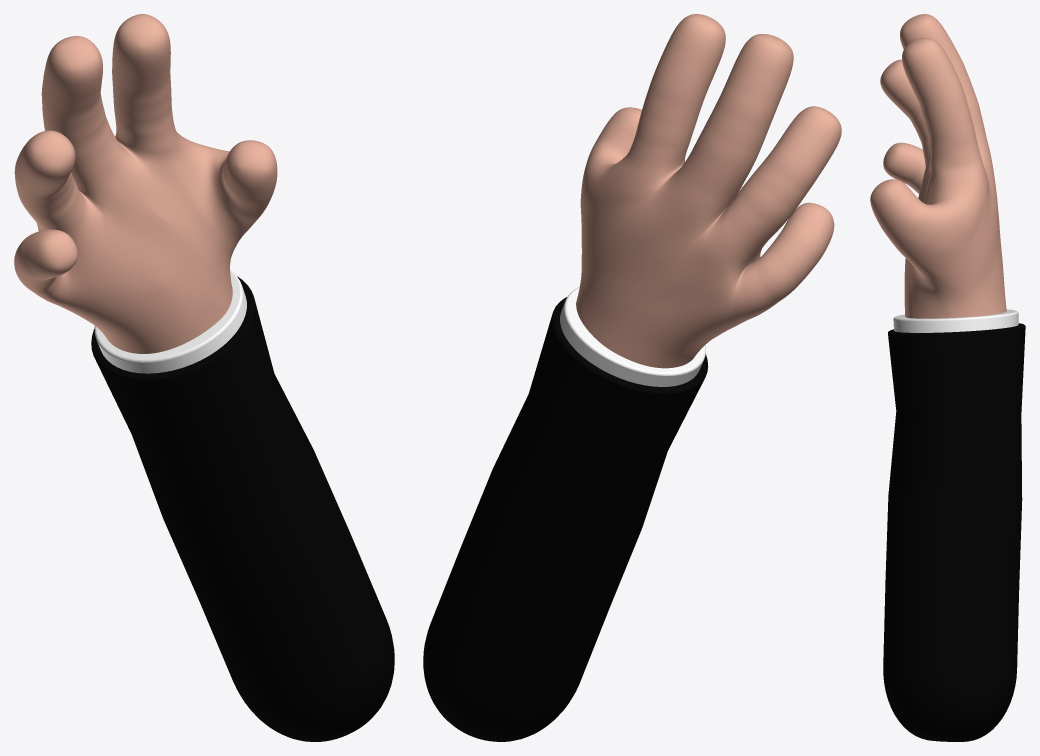
File: emoji_jacket.glb
The picture shows the model from 3 angles, left to right: view 1: azimuth 30°, elevation 25°; view 2: azimuth 150°, elevation 25°; view 3: azimuth 270°, elevation 25°; orthographic projection. The views are drawn at different scales.
Visible parts, largest first — view 1: jacket, hand; view 2: jacket, hand; view 3: jacket, hand.
Part boxes in pixels (left/top/right/bottom): jacket: left=91, top=270, right=394, bottom=741; hand: left=14, top=14, right=277, bottom=353; jacket: left=423, top=287, right=708, bottom=741; hand: left=576, top=14, right=841, bottom=368; jacket: left=883, top=309, right=1025, bottom=741; hand: left=870, top=14, right=1006, bottom=318.
Size of the model in its own units: 4.87 by 9.31 by 2.1.
